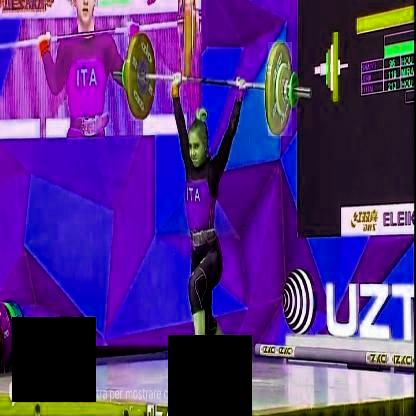barbell: (128, 32, 157, 121), (269, 42, 294, 137)
